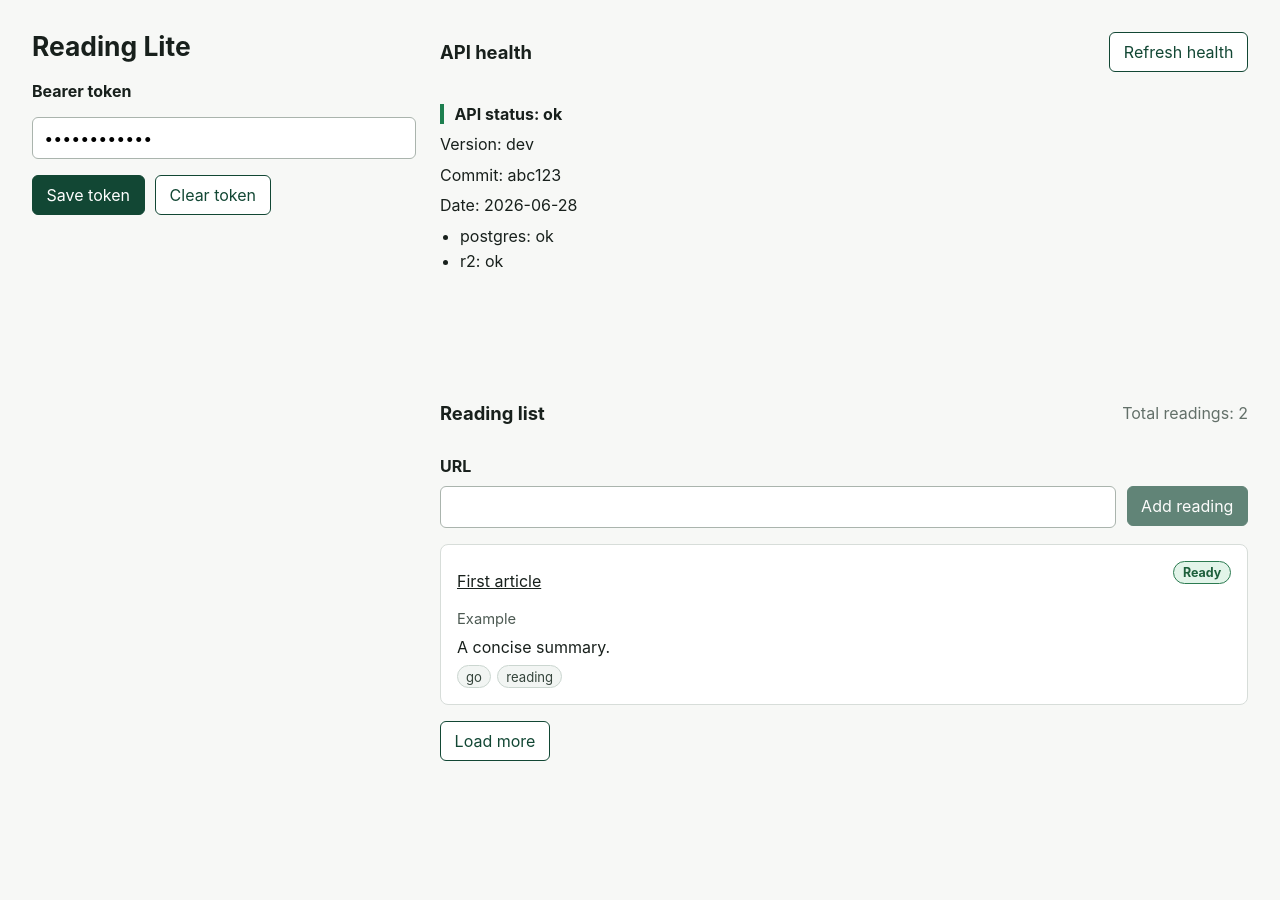
Scenario: App › loads additional pages with the next cursor and appends them
The image size is (1280, 900).
Expected: the button "First article" is shown, [457,561,541,601]
What coordinates should you click on to do the following:
click the button "Load more"
I would click on:
 (495, 741)
Its box is [440,721,550,761].
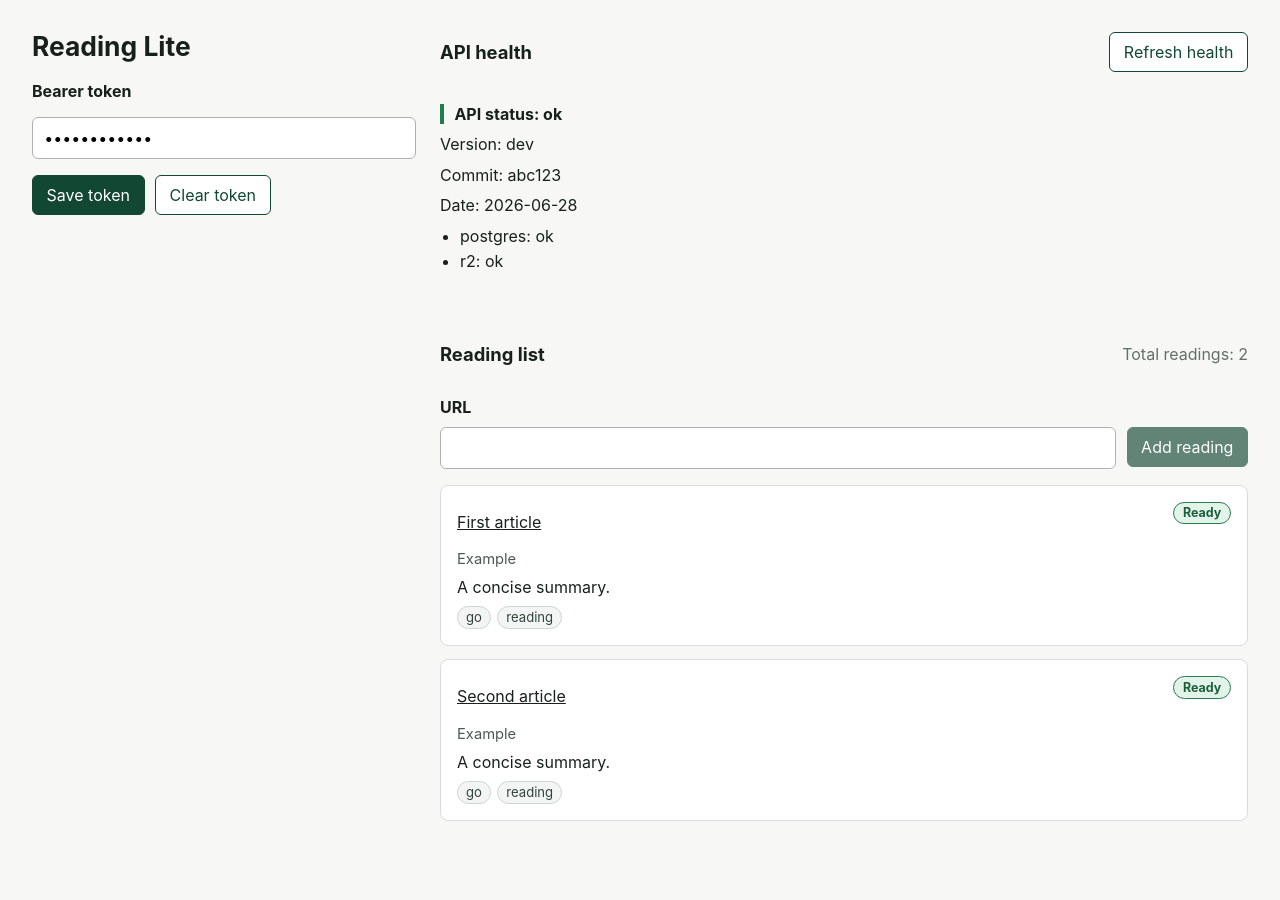
Expected: the button "First article" is shown, [457,502,541,542]
Now the button "Second article" is shown, box [457,676,566,716]
Now the button "Load more" is gone
